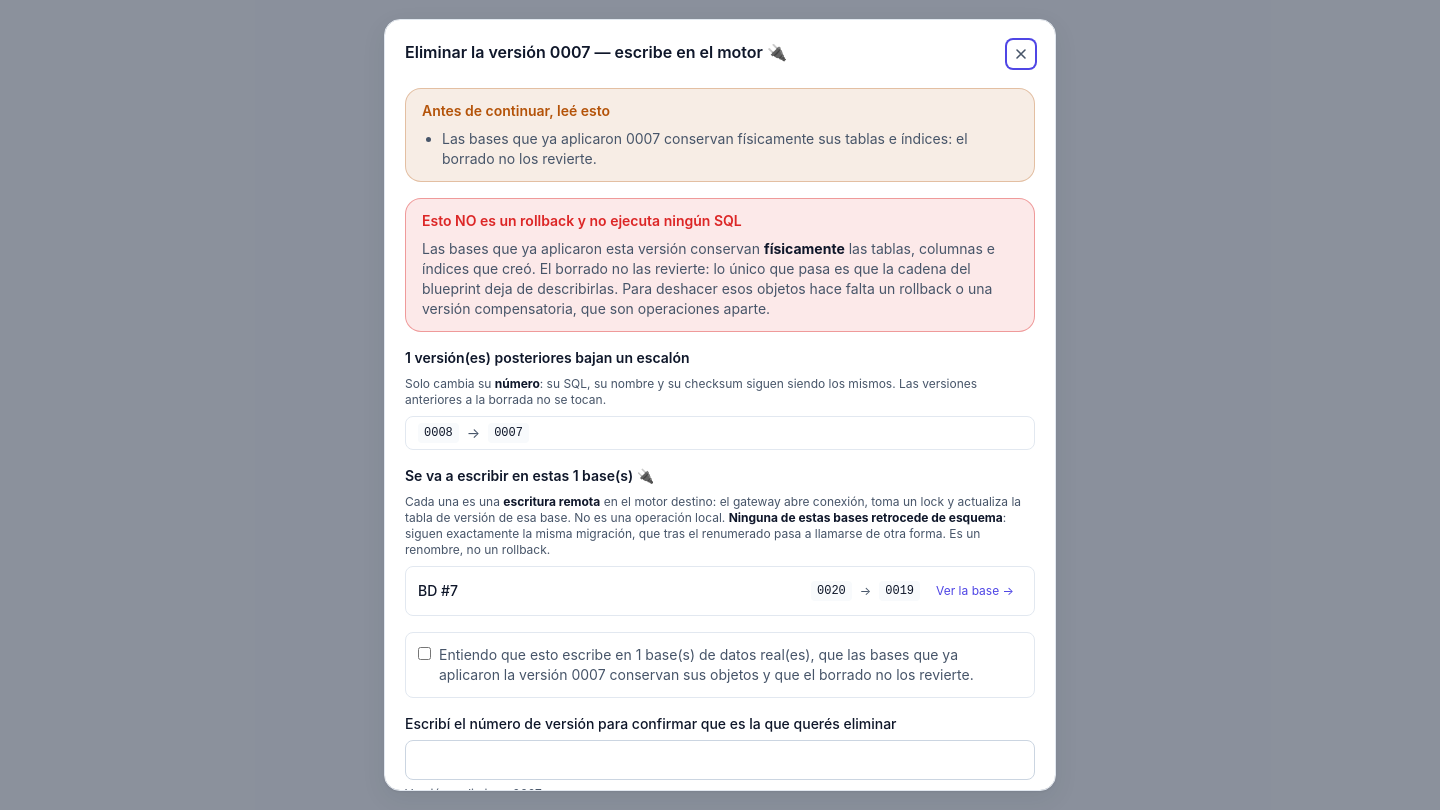
Scenario: MigrationDeletePlanDialog › un 410 del DELETE avisa de la caducidad, ofrece re-planificar y no cierra el diálogo
Click the checkbox. click: [424, 654]
box: [418,647,431,660]
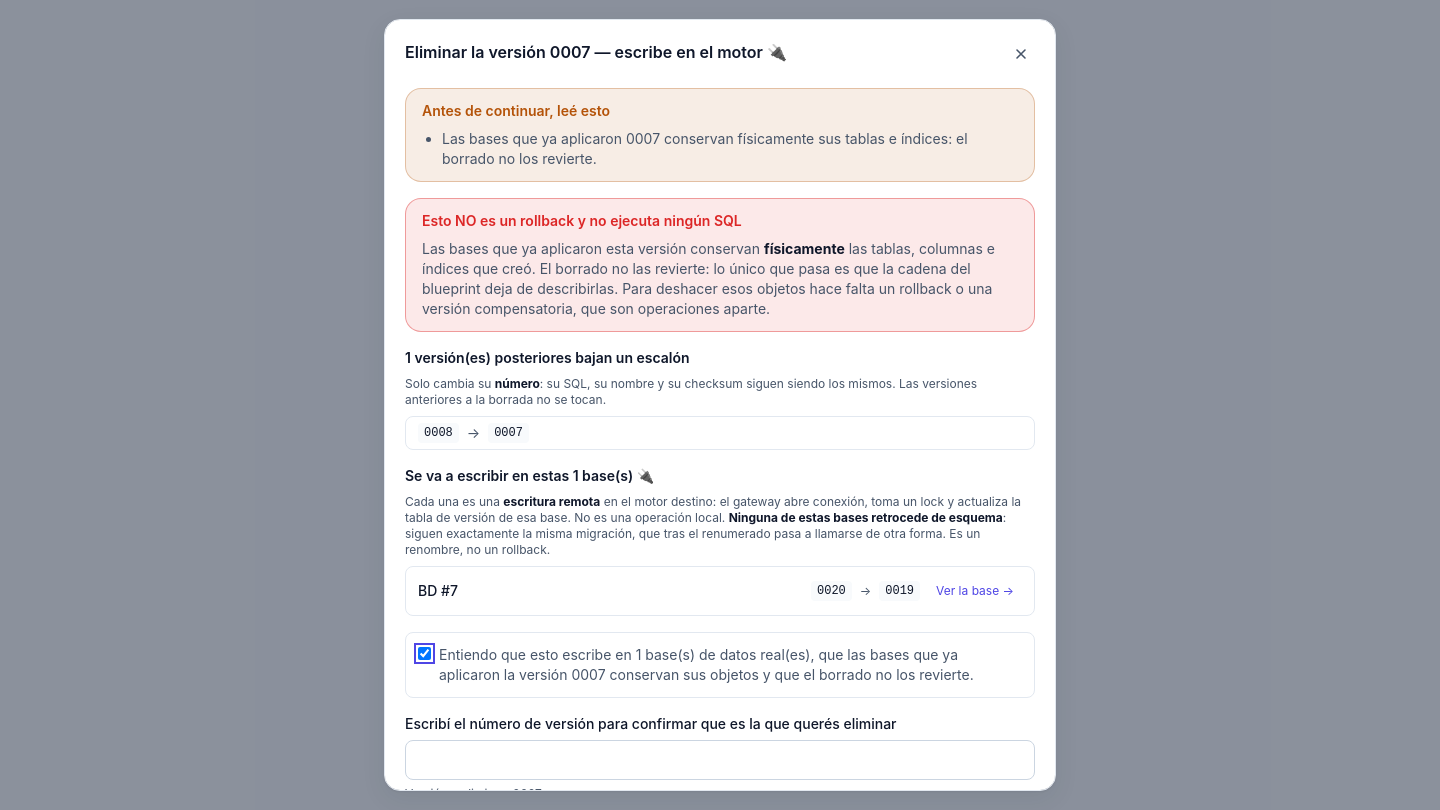
Type "0007" into the field labelled "Escribí el número de versión". click: [720, 760]
box: [405,740,1035,780]
(page scrolled)
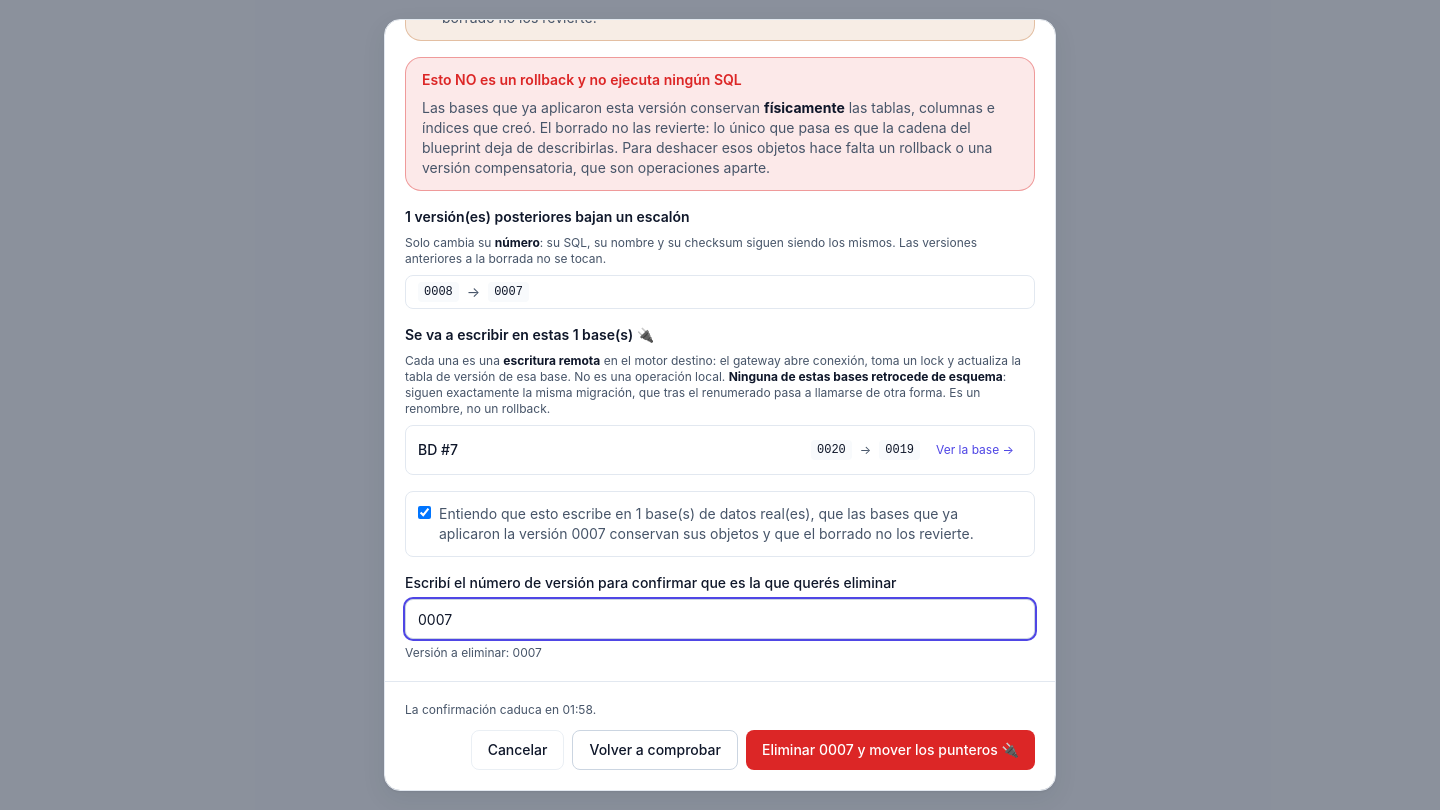
Click the button "Eliminar 0007 y mover los punteros 🔌". click: [890, 750]
box: [746,730,1035,770]
(page scrolled)
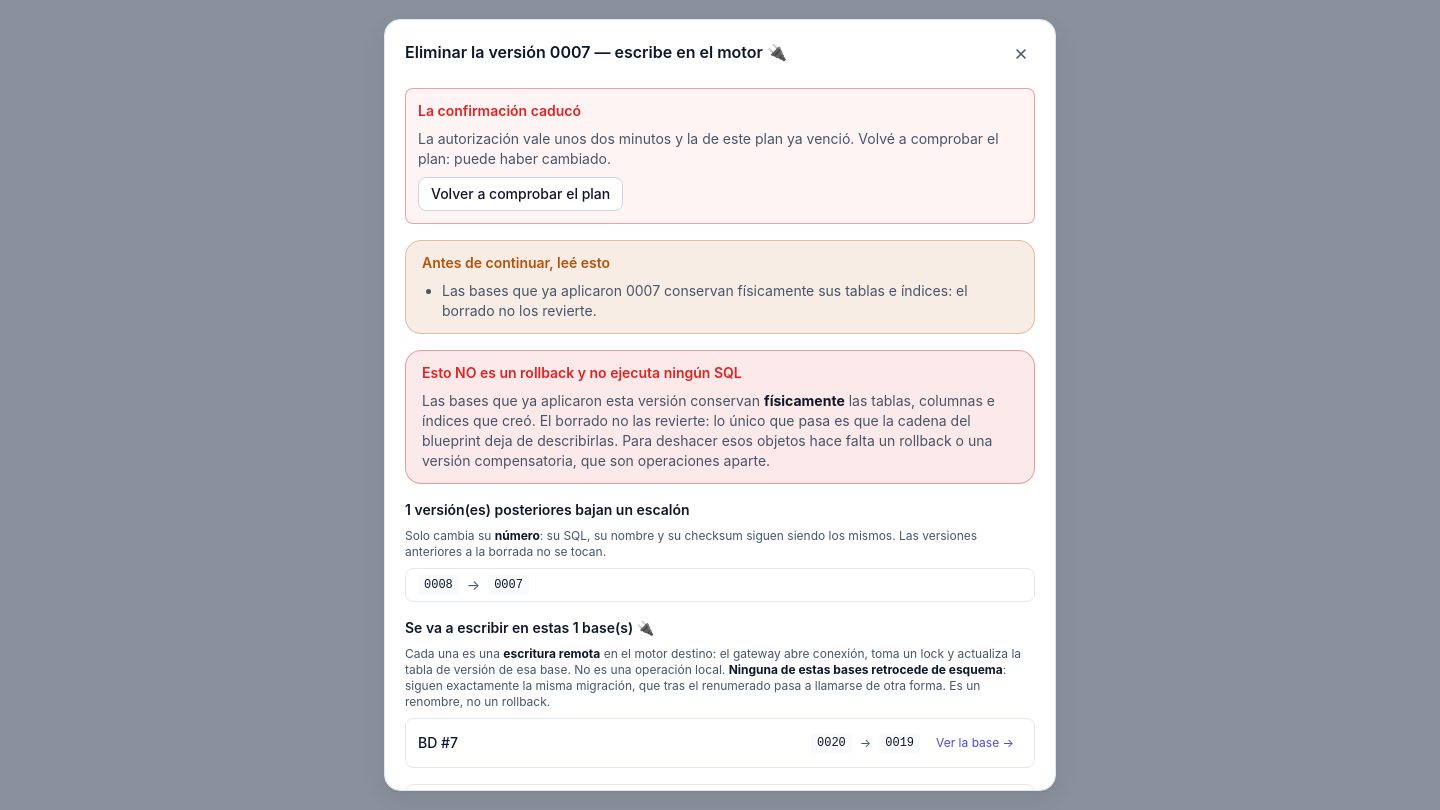
Result: the text "La confirmación caducó" is shown at [418,102,581,119]
Result: the button "Volver a comprobar el plan" is shown at [418,177,623,211]
Result: the heading "Eliminar la versión 0007 — escribe en el motor 🔌" is shown at [405,40,787,64]
